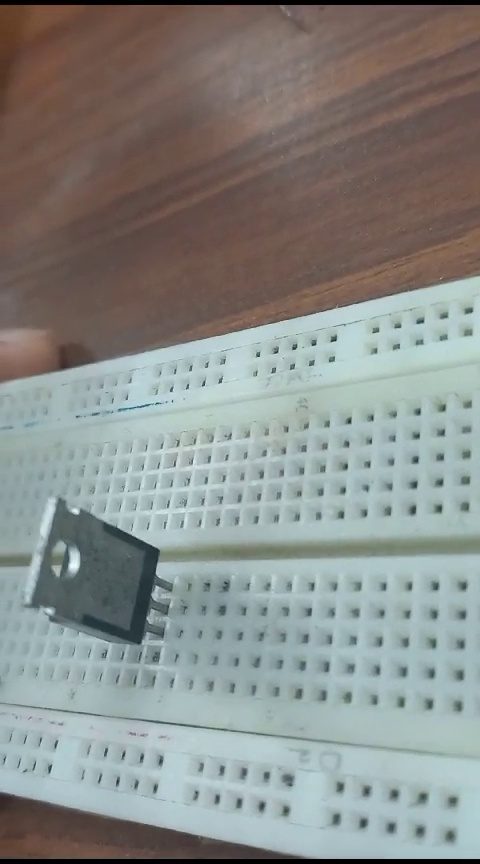voltage regulator: (20, 493, 184, 648)
